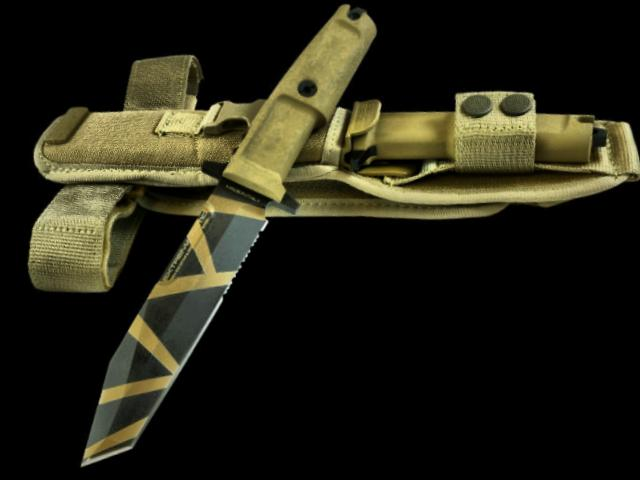knife: (12, 157, 324, 480)
